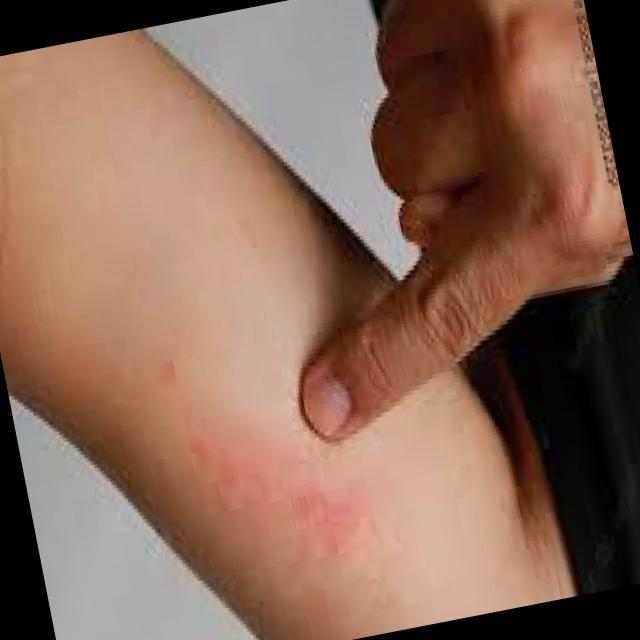Eczema: (124, 374, 374, 608)
